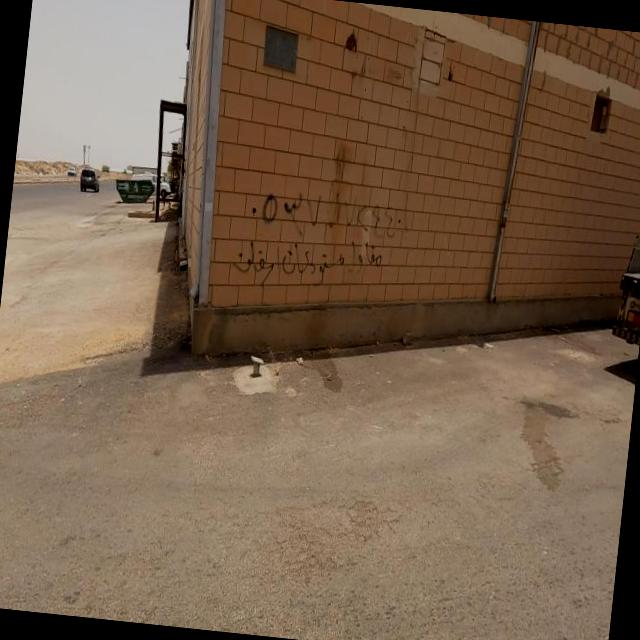debris: (120, 122, 496, 350)
